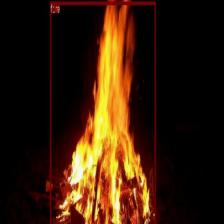fire: (49, 0, 155, 224)
